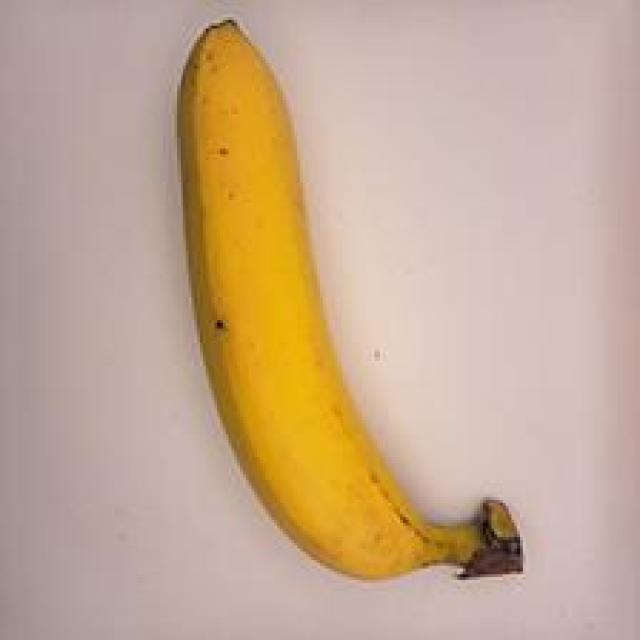ripe: (128, 18, 532, 610)
